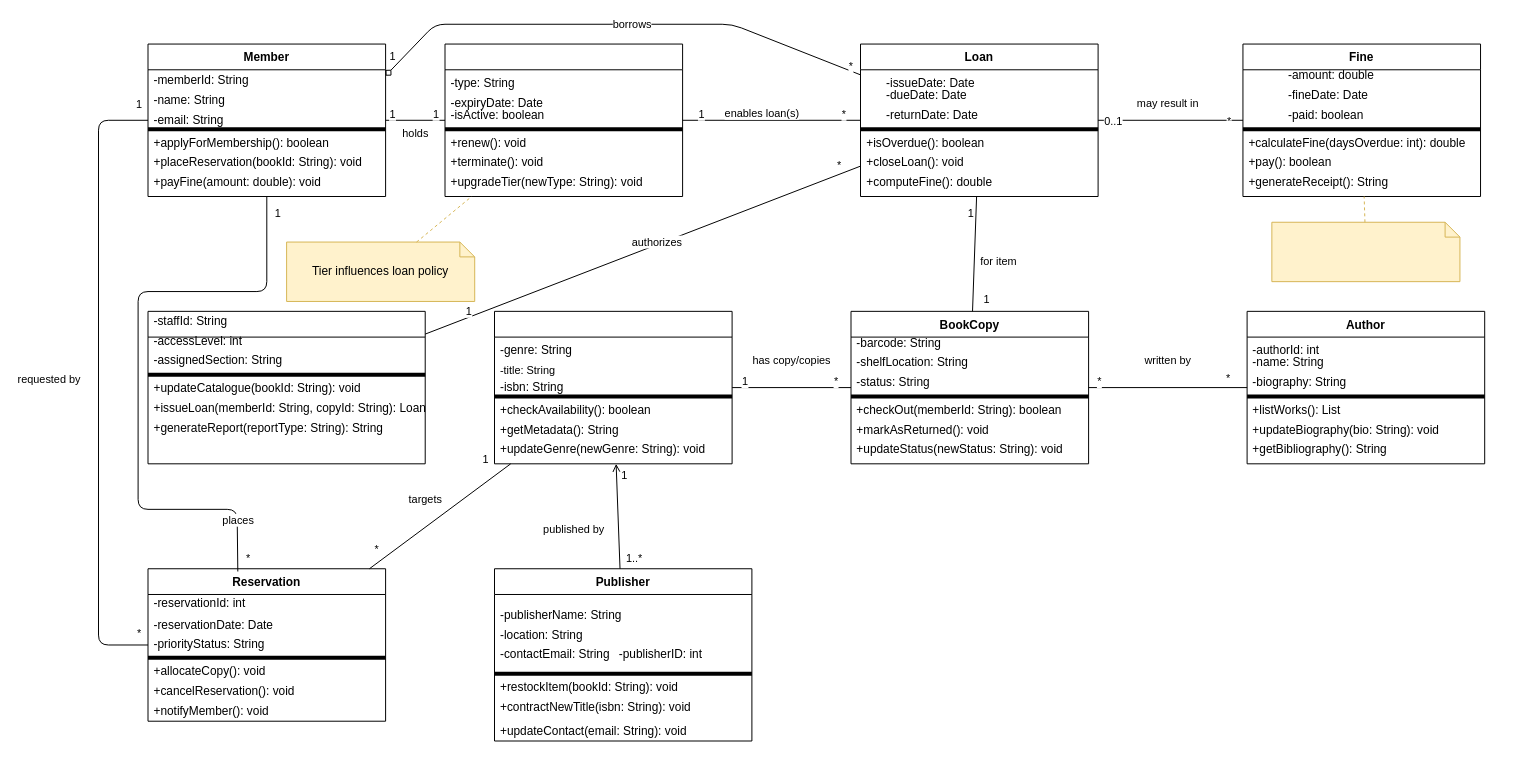
The diagram is 1536 pixels wide and 758 high, and some of its shapes have lost their labels. The shapes that lost their labels are listed below. From the top down, each one's box as (x1, y1, x2, y2) in pixels, then its label:
(444, 43, 683, 197): Membership
(1271, 221, 1460, 282): Created on overdue/late return
(147, 310, 425, 464): Librarian
(494, 310, 732, 464): Book
